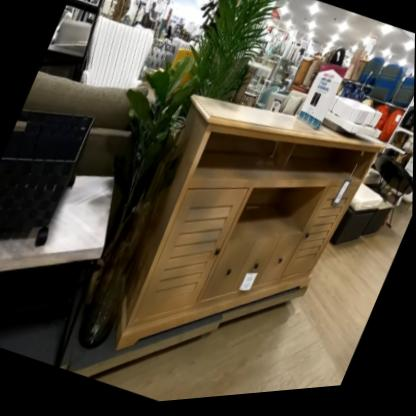Sideboard: (83, 57, 387, 410)
